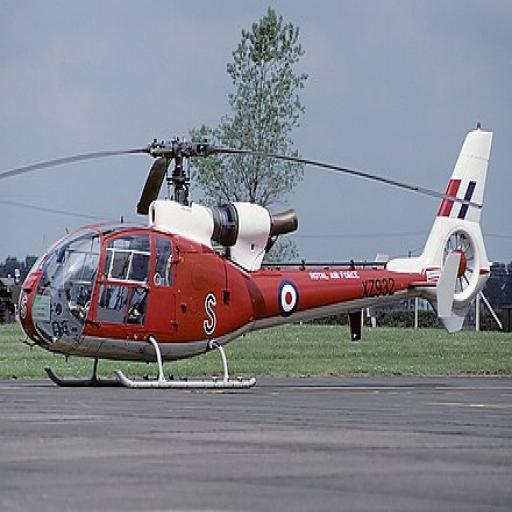helicopter: (4, 142, 503, 399)
